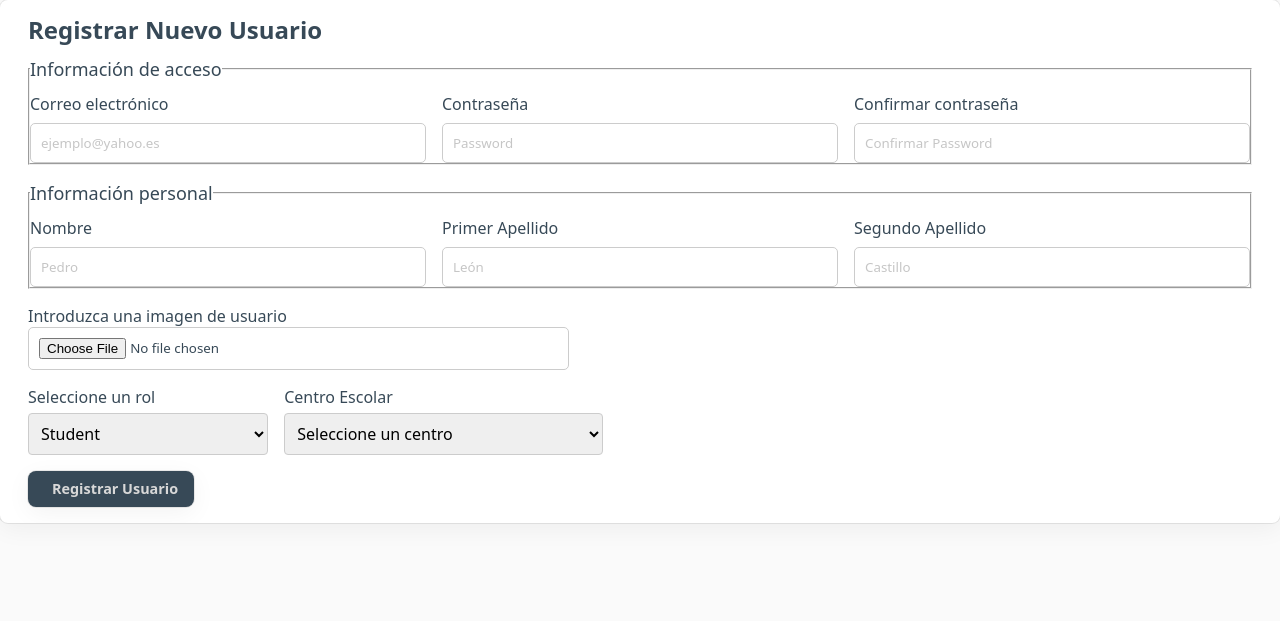
Test case: AddUsers Component › should raise error if email format is invalid
Type "correo@no-valido" into the field labelled "Correo electrónico" at (228, 143), box [30,123,426,163]
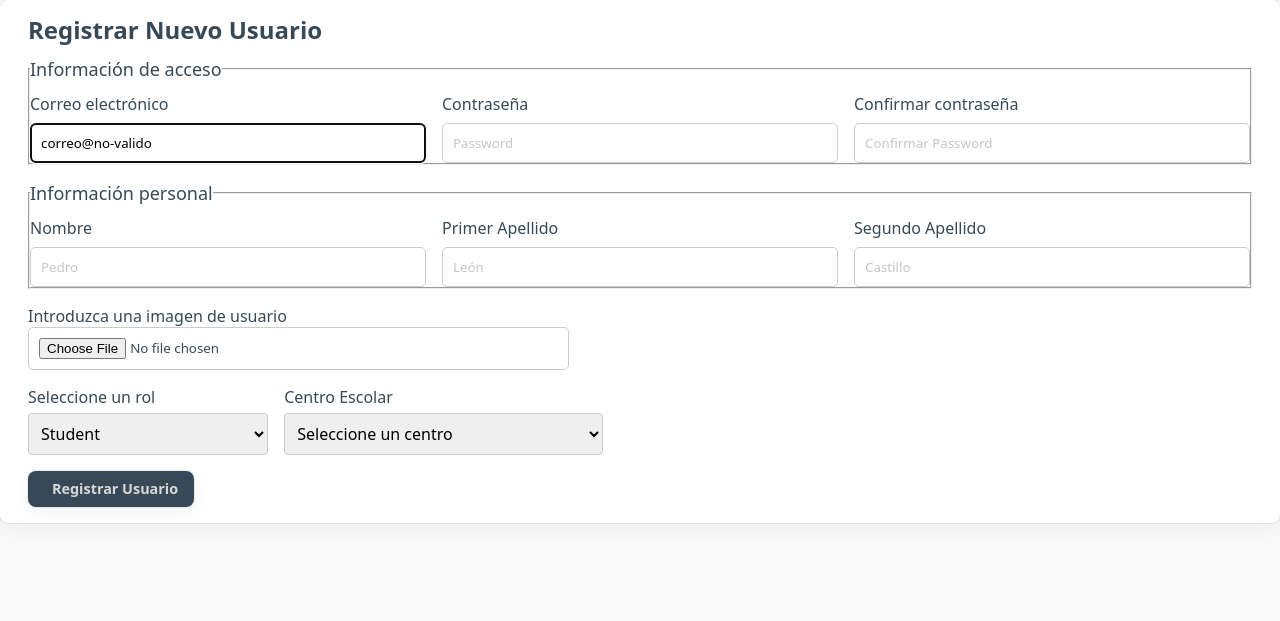
Click the button "Registrar Usuario" at (111, 489), box [28,471,194,507]
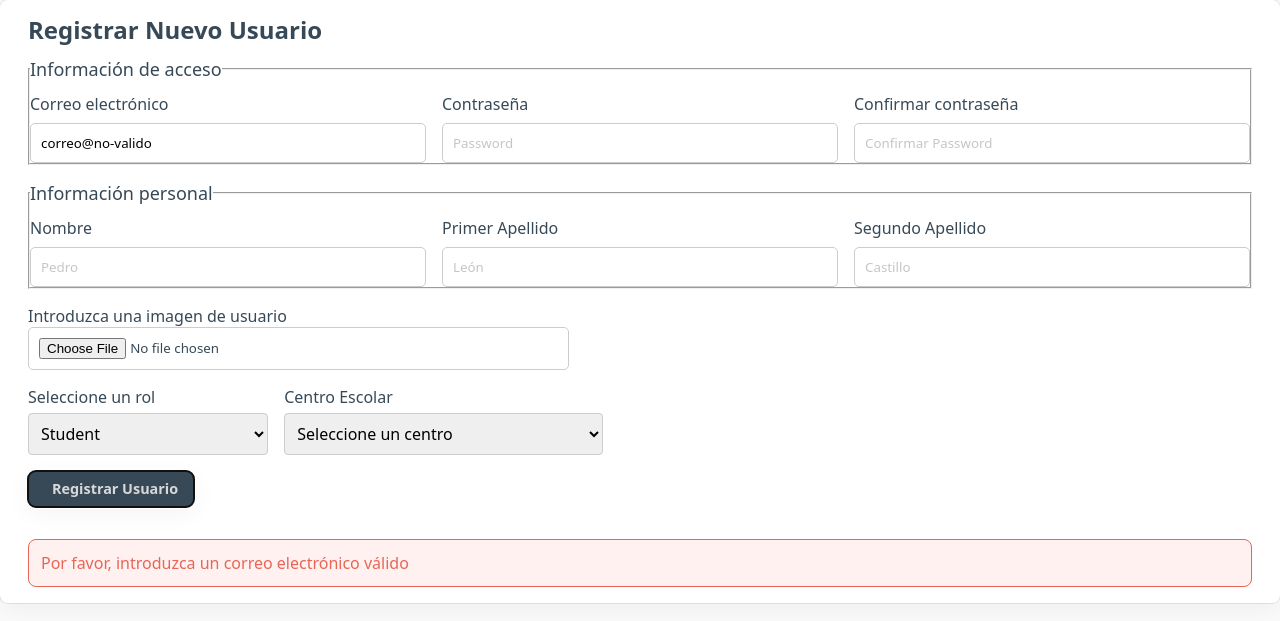
Expected: the message reads "Por favor, introduzca un correo electrónico válido", [41,552,409,574]
